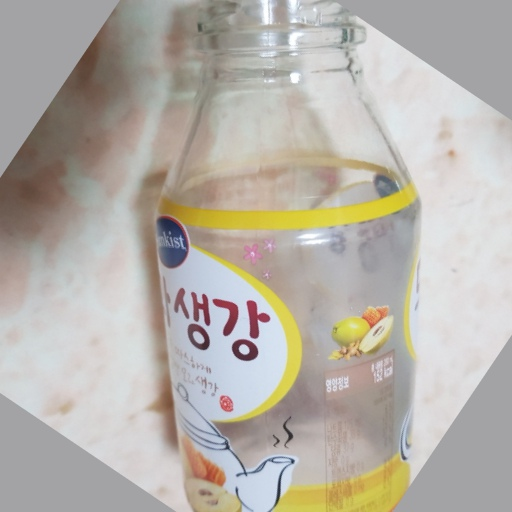Glass_4: (150, 2, 424, 510)
